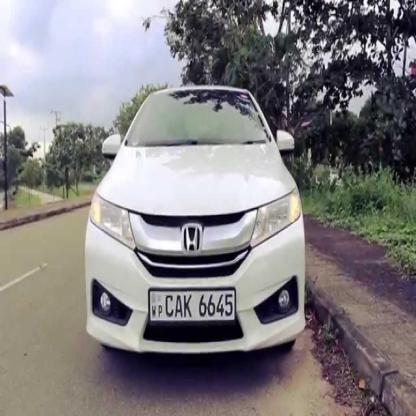car front: (84, 82, 308, 371)
number plate: (150, 288, 237, 321)
